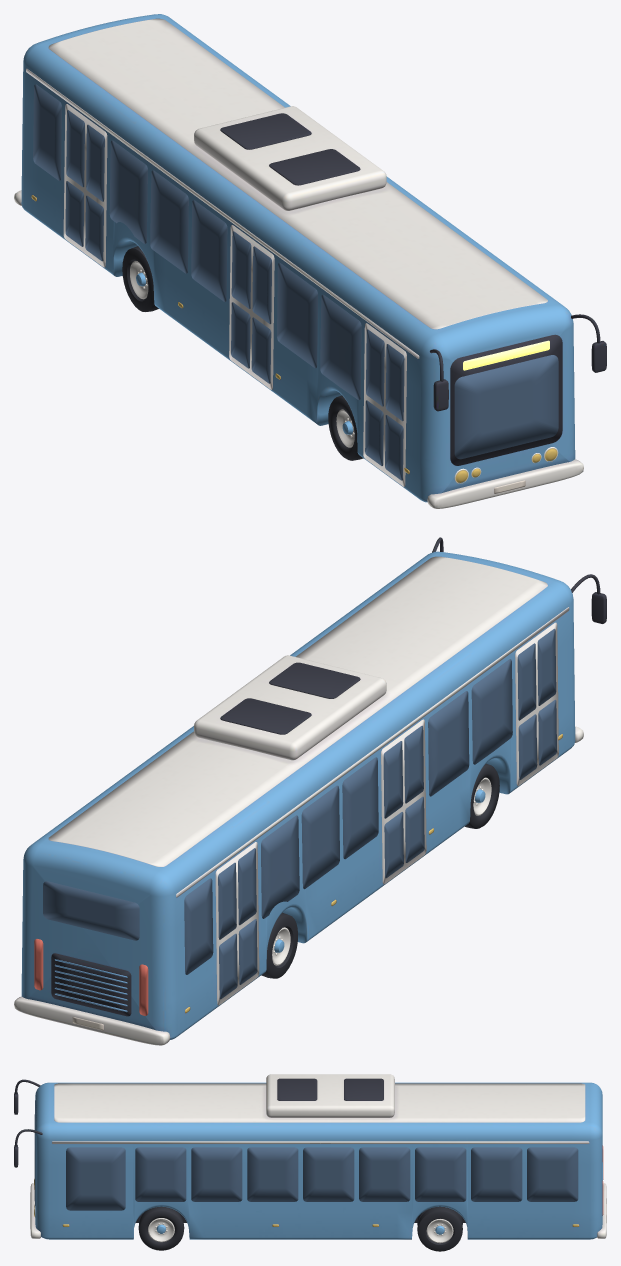
The model's file is city-bus.glb.
3 renders of one model, top to bottom at view 1: azimuth 30°, elevation 25°; view 2: azimuth 150°, elevation 25°; view 3: azimuth 270°, elevation 25°, orthographic. The views are drawn at different scales.
Parts seen in each view (by area): view 1: city-bus_body, city-bus_windows, city-bus_door_windows, city-bus_wheel_rr, city-bus_wheel_fr, city-bus_destination_display; view 2: city-bus_body, city-bus_windows, city-bus_door_windows, city-bus_wheel_rr, city-bus_wheel_fr, city-bus_taillights; view 3: city-bus_body, city-bus_windows, city-bus_wheel_rl, city-bus_wheel_fl.
Boxes of the visible parts, x1,y1,x2,y2 form: city-bus_body: (14,14,606,508); city-bus_windows: (33,84,558,459); city-bus_door_windows: (65,110,404,480); city-bus_wheel_rr: (122,246,158,311); city-bus_wheel_fr: (328,395,363,460); city-bus_destination_display: (463,340,549,370); city-bus_body: (14,537,606,1045); city-bus_windows: (43,659,512,974); city-bus_door_windows: (218,628,556,999); city-bus_wheel_rr: (261,912,297,978); city-bus_wheel_fr: (465,763,499,828); city-bus_taillights: (34,939,148,1015); city-bus_body: (14,1074,606,1239); city-bus_windows: (34,1114,578,1210); city-bus_wheel_rl: (417,1206,462,1251); city-bus_wheel_fl: (138,1206,184,1250).
Bounding box in the file's own units: 2.84 × 3.21 × 12.45.
Materials: 19 (1 with a texture image).
